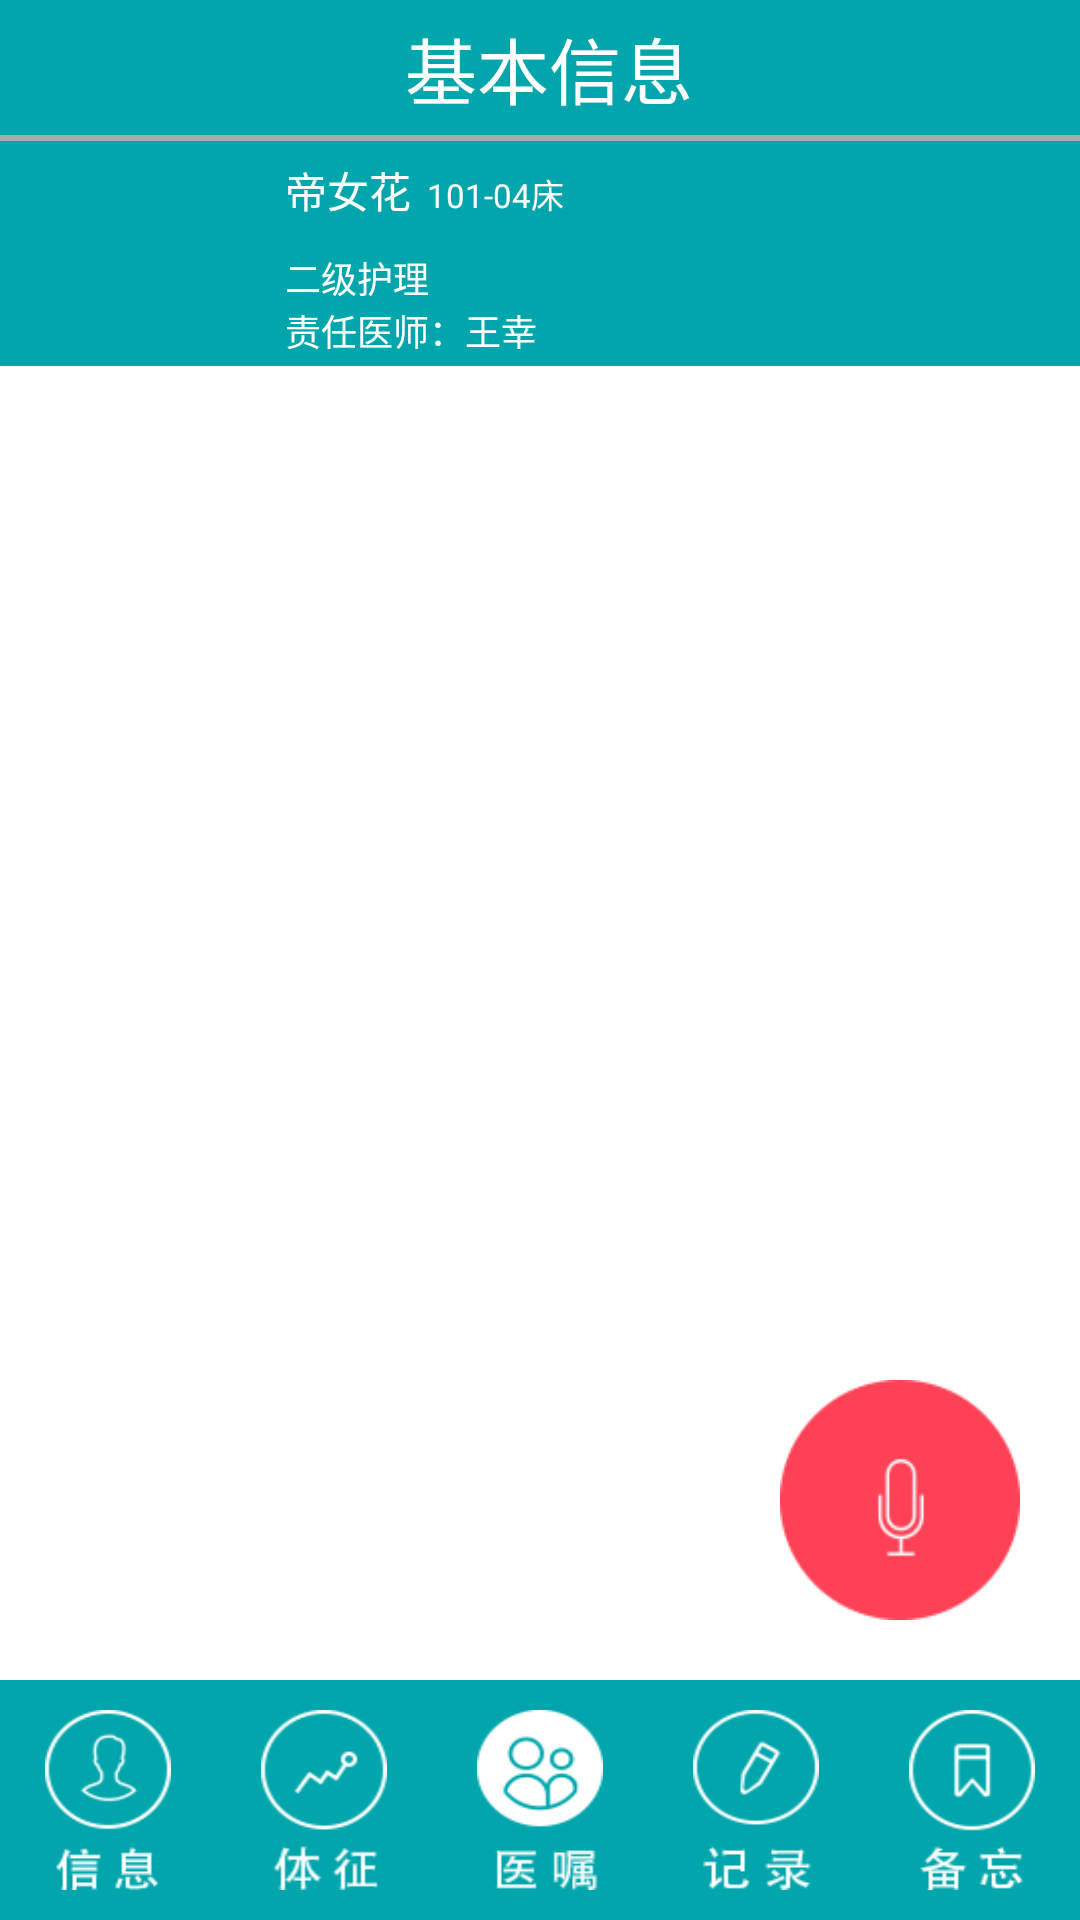

Where icons sit on this 1080 x 1920 app screen, as (x1, y1, x2, y2):
speak: (780, 1380, 1020, 1620)
